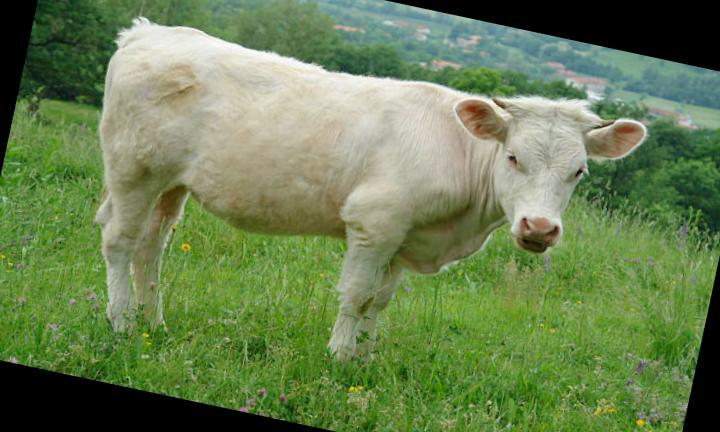Charolais: (96, 19, 645, 357)
